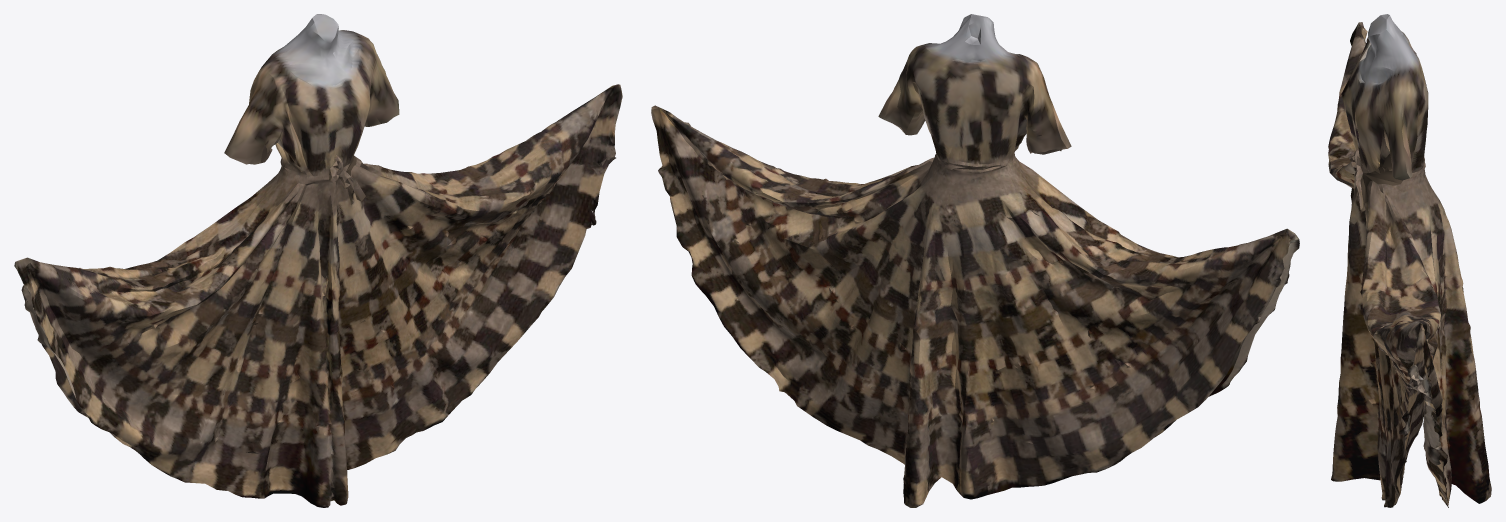
3 views of the same model, side by side, from view 1: azimuth 30°, elevation 25°; view 2: azimuth 150°, elevation 25°; view 3: azimuth 270°, elevation 25° (orthographic). The views are drawn at different scales.
Parts seen in each view (by area): view 1: Garment LP; view 2: Garment LP; view 3: Garment LP.
Part boxes in pixels (x1,y1,x2,y2): Garment LP: [14, 14, 622, 507]; Garment LP: [651, 14, 1299, 507]; Garment LP: [1328, 14, 1491, 507].
Size of the model in its own units: 2.08 by 1.49 by 0.465.
Materials: 1 (1 with a texture image).
